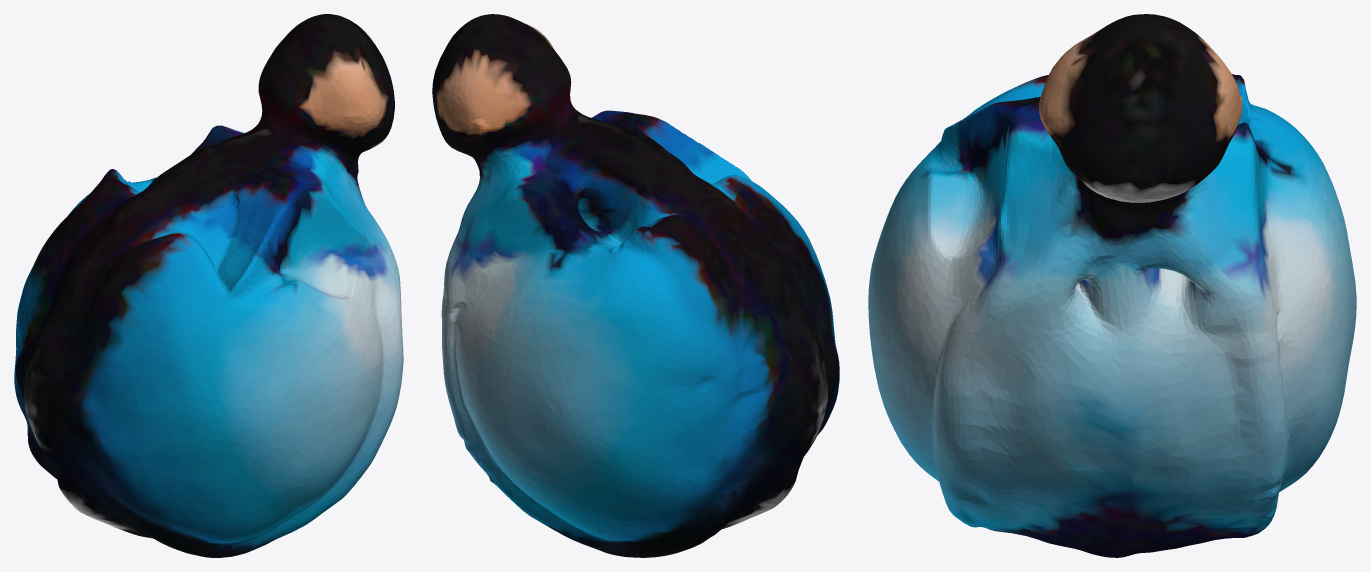
The model's file is potiongen.glb.
The picture shows the model from 3 angles, left to right: view 1: azimuth 30°, elevation 25°; view 2: azimuth 150°, elevation 25°; view 3: azimuth 270°, elevation 25°; orthographic projection. The views are drawn at different scales.
Parts seen in each view (by area): view 1: geometry_0; view 2: geometry_0; view 3: geometry_0.
Part boxes in pixels (box(x1,y1,x2,y2)): geometry_0: box(14, 14, 403, 557); geometry_0: box(432, 14, 839, 557); geometry_0: box(868, 14, 1356, 557).
Bounding box in the file's own units: 0.375 × 0.4605 × 0.333.
